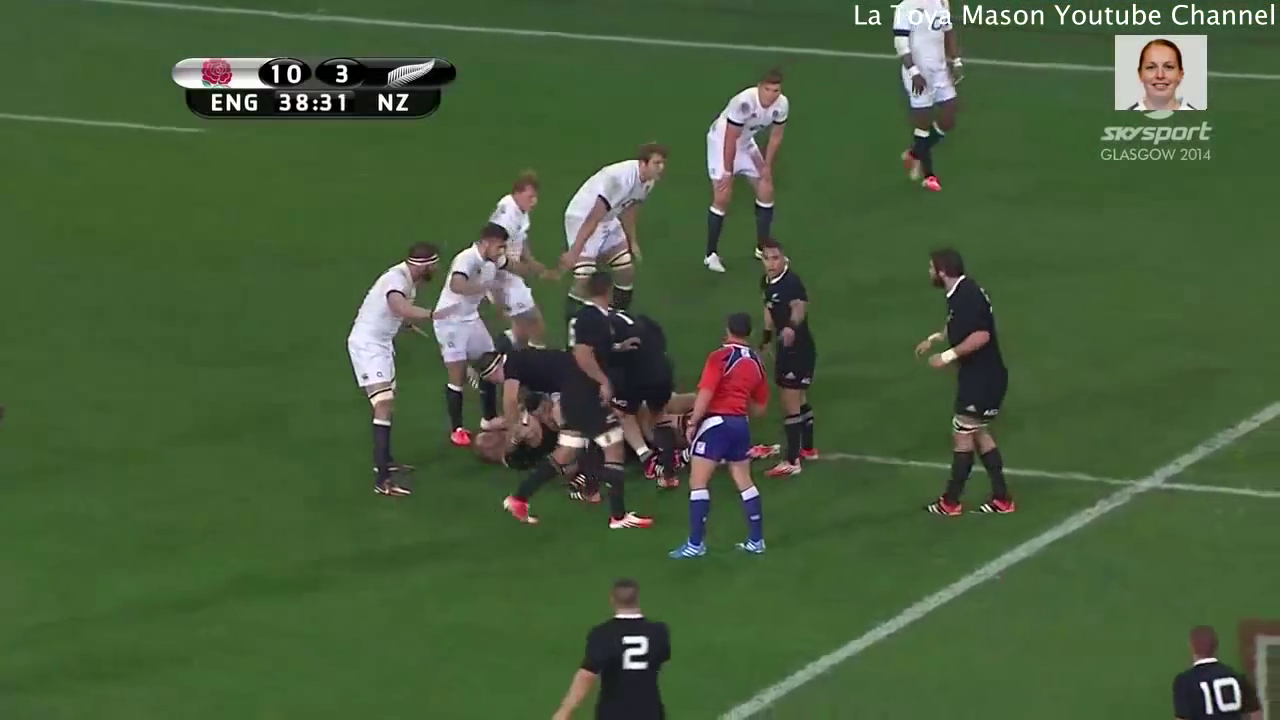player: (498, 257, 634, 534), (910, 247, 1021, 529), (336, 233, 443, 503), (675, 303, 779, 552), (542, 571, 681, 720), (754, 235, 831, 482), (549, 140, 670, 294), (870, 35, 980, 192), (698, 70, 792, 249), (437, 218, 504, 415), (483, 167, 548, 350), (1168, 614, 1259, 720)
ruck: (460, 347, 738, 468)
